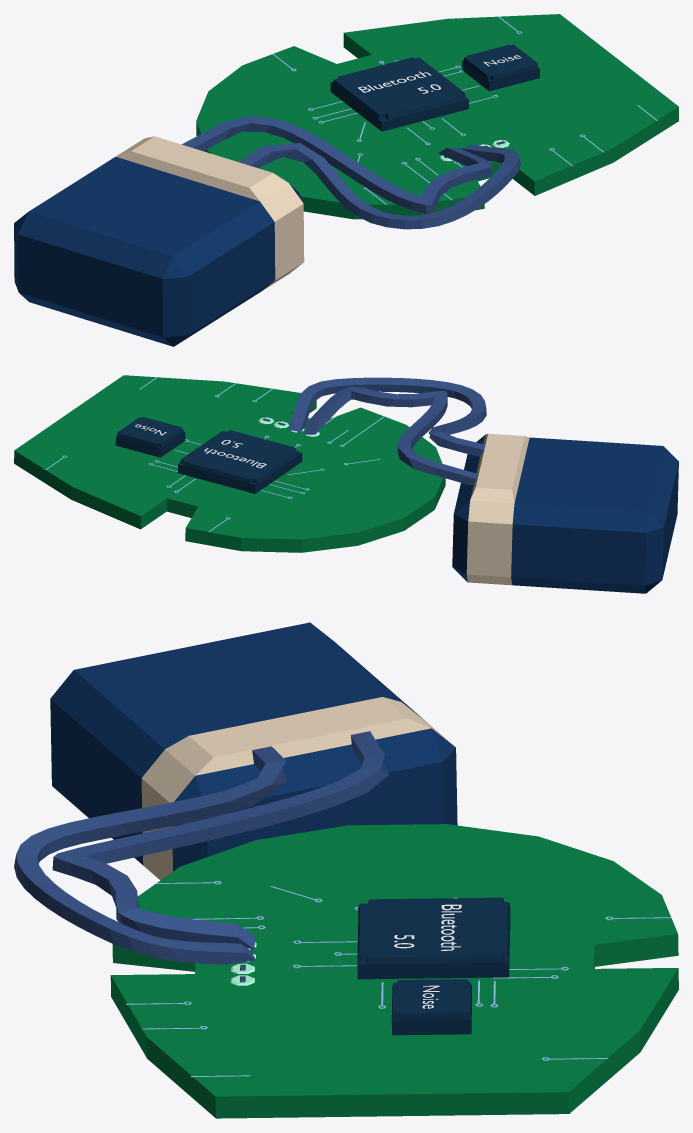
The model's file is TWS Circuit.fbx.
The picture shows the model from 3 angles, top to bottom: view 1: azimuth 30°, elevation 25°; view 2: azimuth 150°, elevation 25°; view 3: azimuth 270°, elevation 25°; orthographic projection. The views are drawn at different scales.
Visible parts, largest first — view 1: TWS Circuit; view 2: TWS Circuit; view 3: TWS Circuit.
Part boxes in pixels (bbox=[...]): TWS Circuit: bbox=[14, 14, 678, 346]; TWS Circuit: bbox=[14, 375, 678, 593]; TWS Circuit: bbox=[14, 622, 678, 1118].
Bounding box in the file's own units: 3634 × 611 × 2253.
